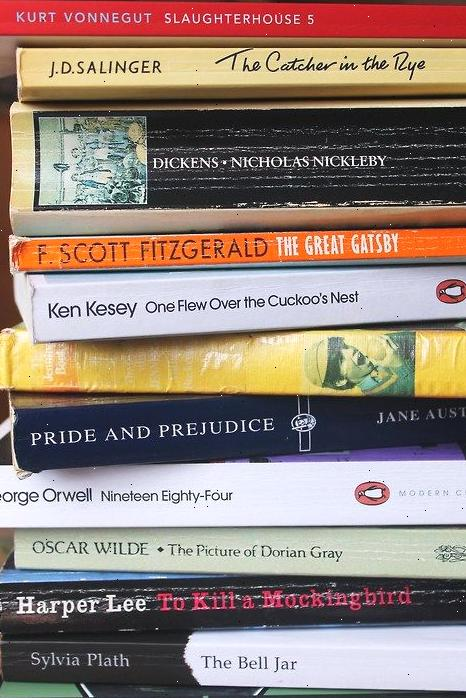book: (11, 103, 466, 226), (15, 258, 466, 349), (0, 453, 466, 524), (1, 573, 466, 633), (6, 522, 466, 580), (13, 43, 466, 97), (0, 0, 466, 38), (6, 90, 466, 121)
